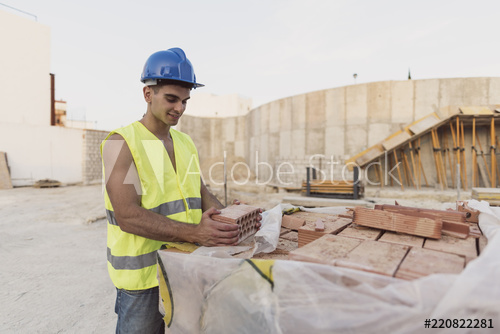hard hat: (141, 47, 204, 88)
high-vis: (104, 121, 204, 288)
